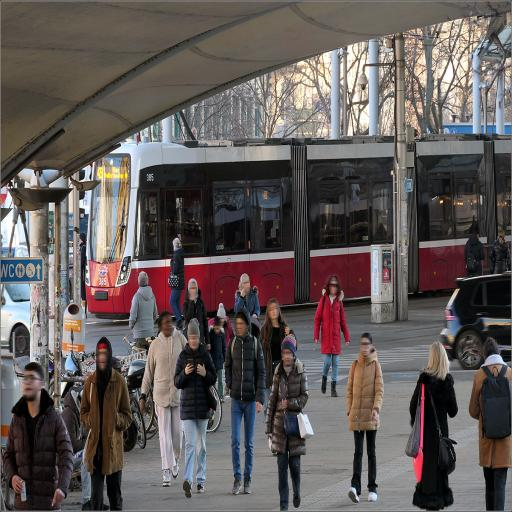Flexity: (84, 132, 512, 312)
